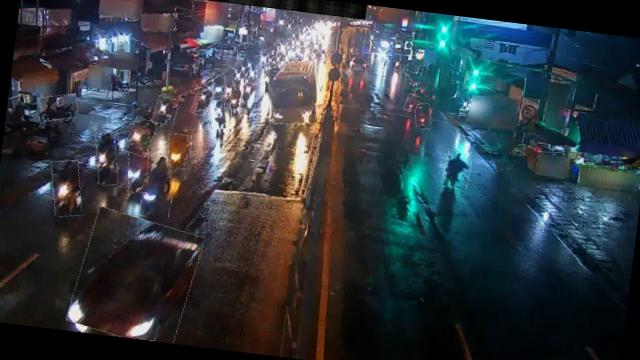Bike: (140, 154, 177, 219), (47, 158, 85, 218), (92, 131, 122, 187), (35, 92, 79, 124), (442, 148, 472, 189), (125, 116, 155, 157), (125, 146, 151, 192), (165, 132, 192, 170), (205, 98, 231, 132), (153, 96, 178, 125), (191, 88, 212, 116), (239, 82, 258, 112), (413, 102, 432, 130), (224, 87, 241, 110), (210, 74, 226, 96), (404, 93, 418, 112)
Bus: (263, 56, 322, 127)
Car: (68, 208, 202, 344)
